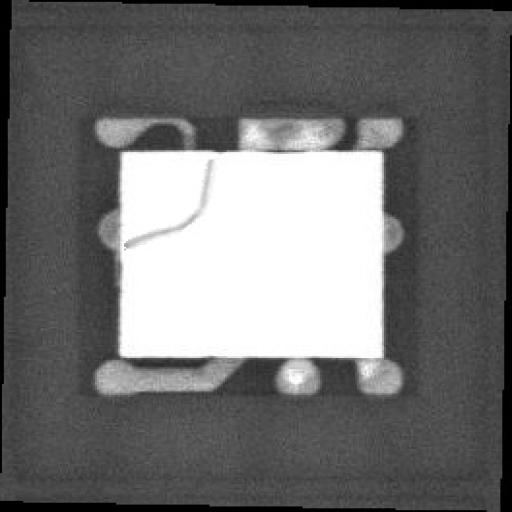DIE_INK: (117, 165, 204, 258)
